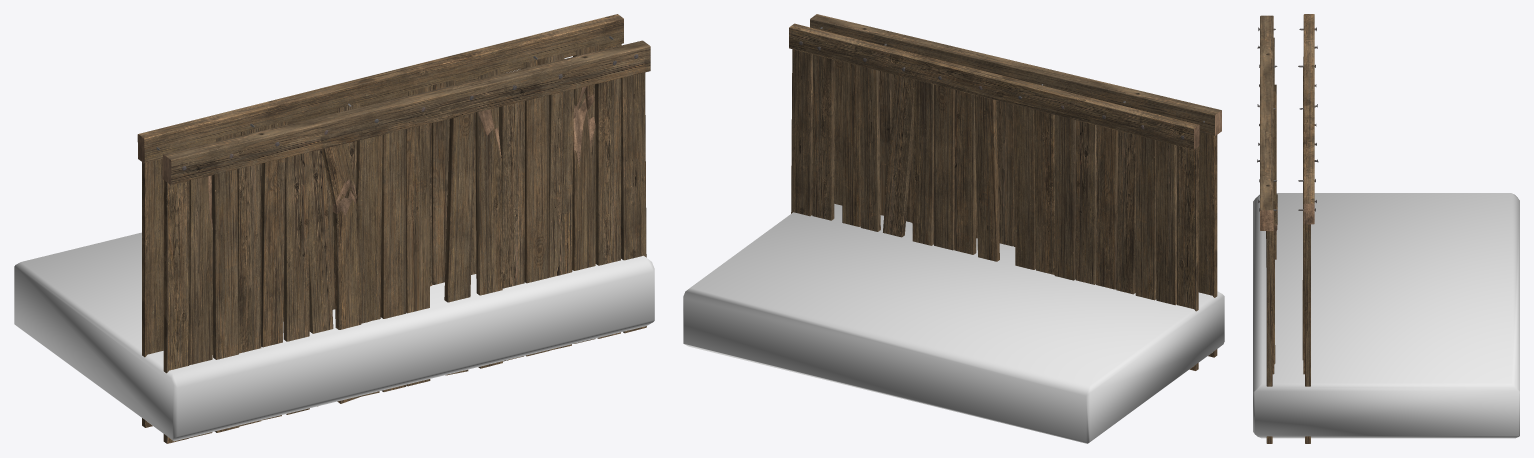
Rendered from SM_Wall_LowPart_D.fbx.
3 views of the same model, side by side, from view 1: azimuth 30°, elevation 25°; view 2: azimuth 150°, elevation 25°; view 3: azimuth 270°, elevation 25° (orthographic). The views are drawn at different scales.
Visible parts, largest first — view 1: SM_Wall_LowPart_D, SM_Wall_LowPart_D_ConvexHulls; view 2: SM_Wall_LowPart_D, SM_Wall_LowPart_D_ConvexHulls; view 3: SM_Wall_LowPart_D_ConvexHulls, SM_Wall_LowPart_D.
Part boxes in pixels (bbox=[...]): SM_Wall_LowPart_D: bbox=[137, 14, 650, 443]; SM_Wall_LowPart_D_ConvexHulls: bbox=[14, 232, 654, 441]; SM_Wall_LowPart_D: bbox=[789, 14, 1221, 370]; SM_Wall_LowPart_D_ConvexHulls: bbox=[683, 204, 1224, 443]; SM_Wall_LowPart_D_ConvexHulls: bbox=[1253, 193, 1519, 438]; SM_Wall_LowPart_D: bbox=[1257, 14, 1318, 443].
Bounding box in the file's own units: 3.01 × 1.76 × 1.76.
